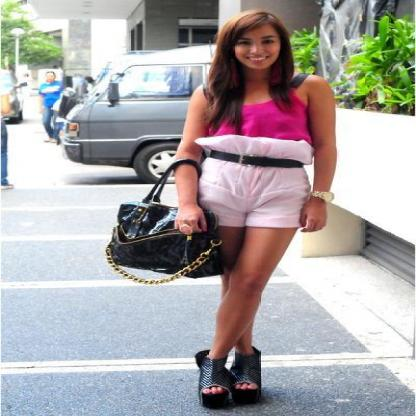bag: (105, 164, 225, 292)
shirt: (194, 92, 311, 158)
shoe: (195, 346, 265, 410)
shorts: (187, 157, 311, 227)
